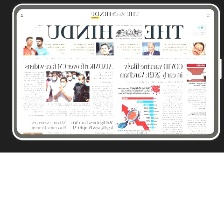news_paper: (13, 9, 212, 139)
